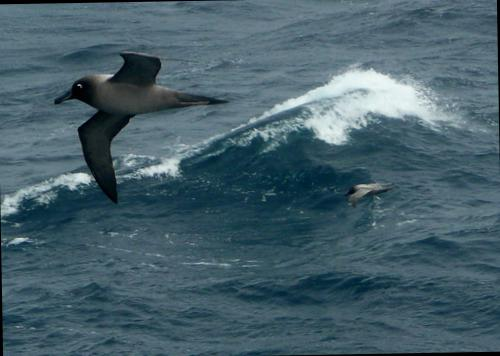bird: (44, 39, 244, 213), (342, 176, 399, 213)
